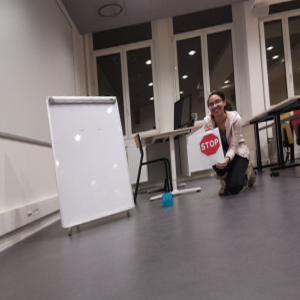big: (47, 93, 138, 231)
small: (161, 193, 174, 208)
